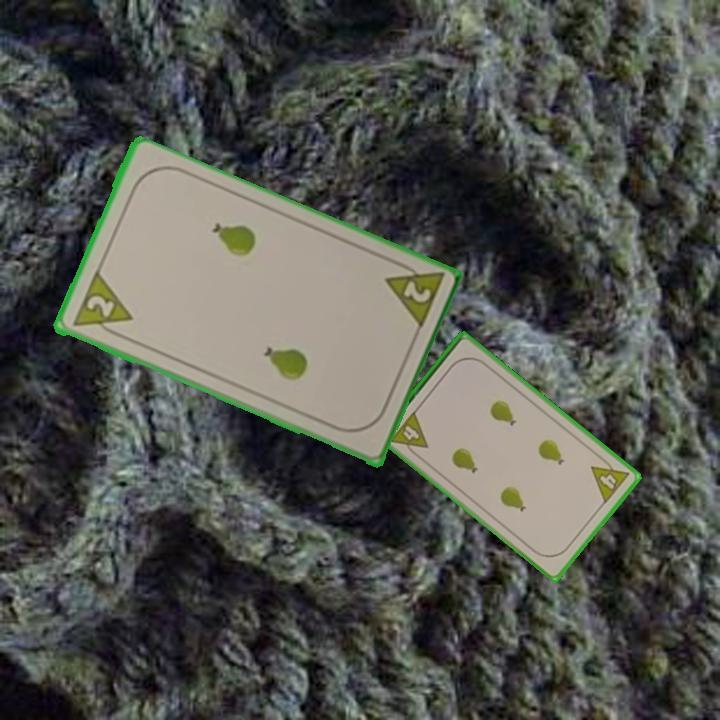2p: (380, 255, 446, 333), (68, 269, 135, 343)
4p: (587, 452, 632, 507), (387, 407, 431, 460)
